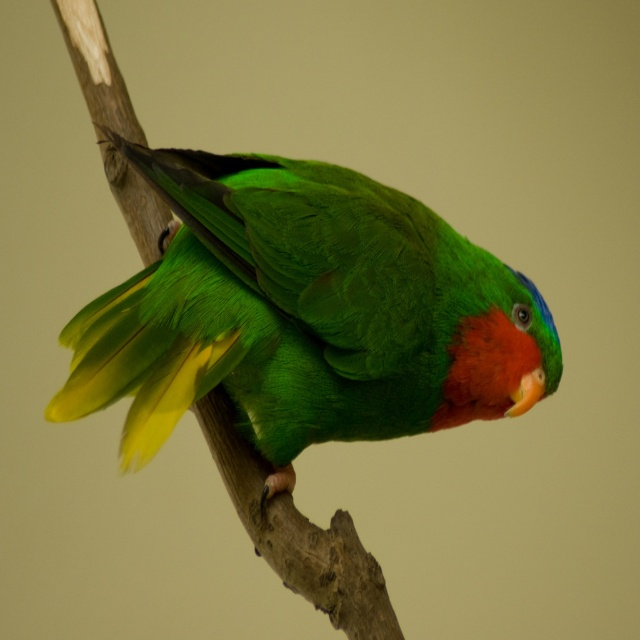Parrot: (44, 119, 564, 555)
